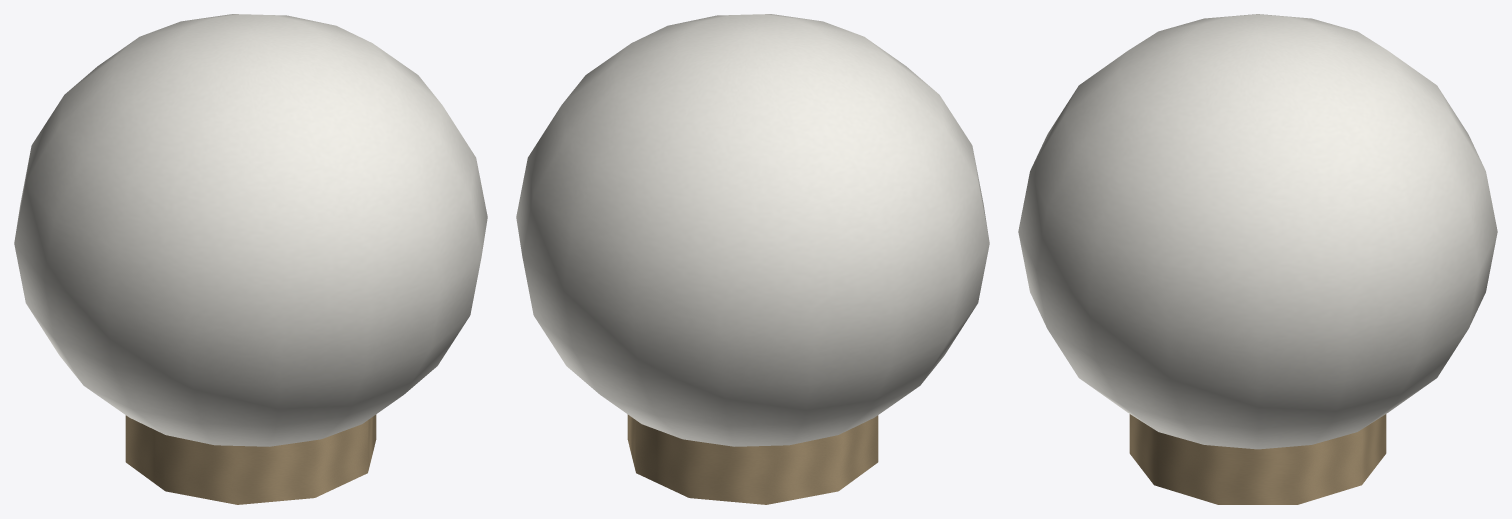
File: fado-mobile.glb
3 views of the same model, side by side, from view 1: azimuth 30°, elevation 25°; view 2: azimuth 150°, elevation 25°; view 3: azimuth 270°, elevation 25° (orthographic).
Parts seen in each view (by area): view 1: FADO Globe table lamp; view 2: FADO Globe table lamp; view 3: FADO Globe table lamp.
Boxes of the visible parts, left/top/right/bottom form: FADO Globe table lamp: left=14, top=14, right=487, bottom=504; FADO Globe table lamp: left=516, top=14, right=989, bottom=504; FADO Globe table lamp: left=1018, top=14, right=1497, bottom=504.
Bounding box in the file's own units: 0.25 × 0.24 × 0.25.
Materials: 2 (2 with a texture image).
